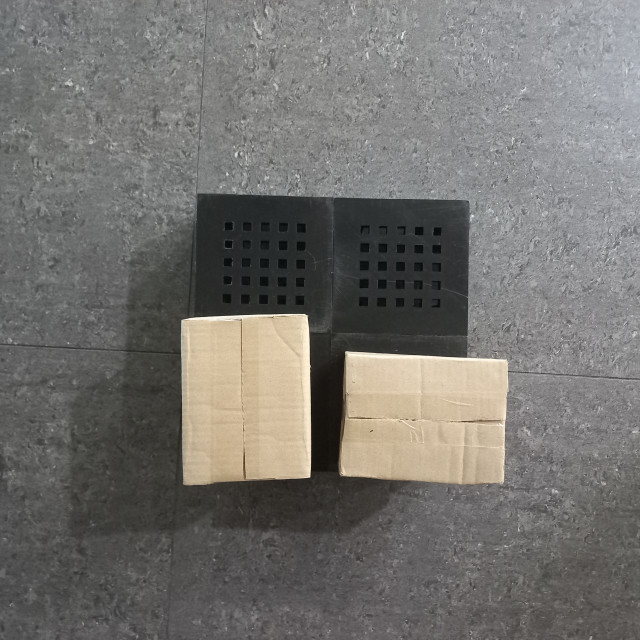box: (178, 312, 313, 487), (338, 351, 511, 487)
